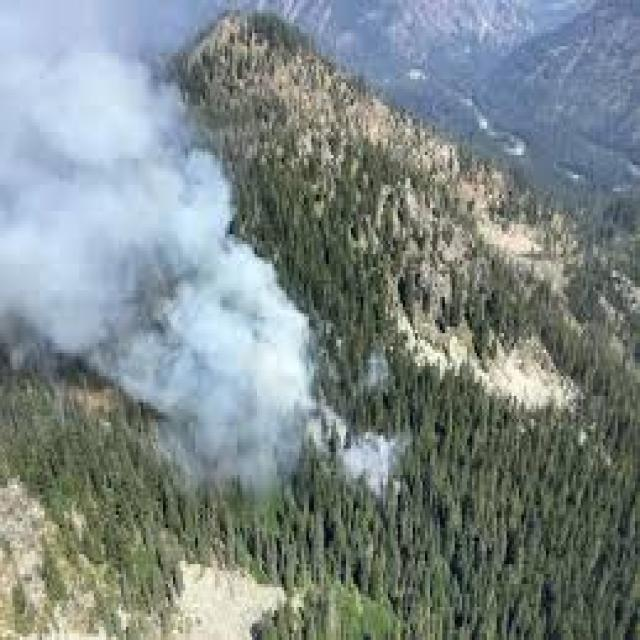Smoke: (0, 112, 326, 456), (102, 235, 316, 486), (339, 423, 400, 505)
